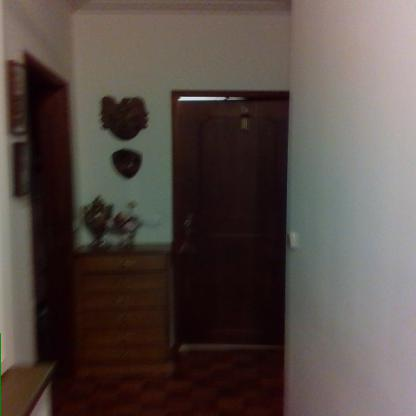door: (175, 100, 293, 344)
knob: (183, 221, 191, 228)
